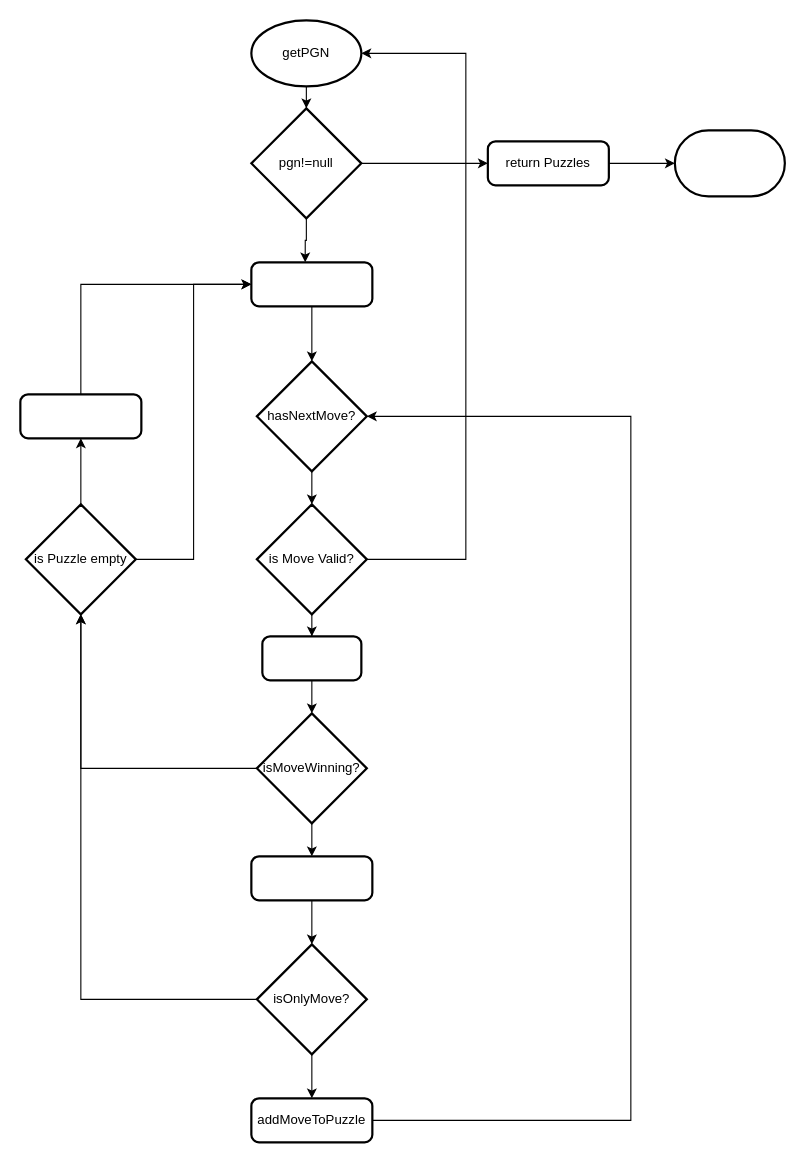
The diagram is 804 pixels wide and 1162 high, and some of its shapes have lost their labels. The shapes that lost their labels are listed below. From the top down, each one's centre as x and y in pixels, then its label:
At point (729, 163): "END".
At point (311, 284): "create Puzzle".
At point (80, 416): "addPuzzleToList".
At point (311, 658): "getBestMove".
At point (311, 878): "getTwoBestMoves".
